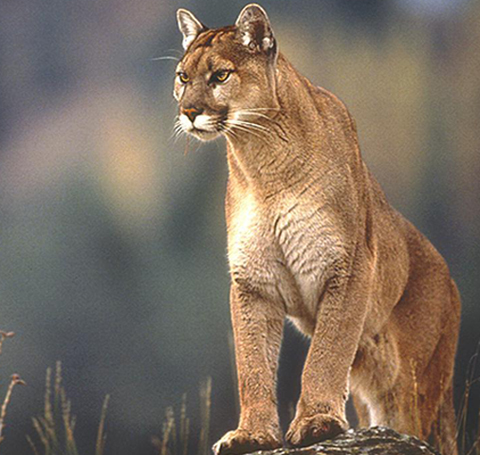OncaParda: (163, 2, 468, 450)
